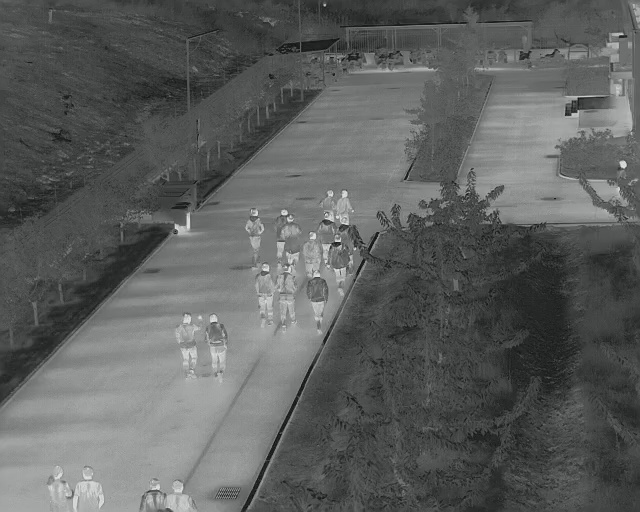person: (175, 310, 204, 380), (207, 311, 232, 383), (308, 272, 331, 334), (75, 466, 104, 512), (244, 206, 267, 264), (280, 262, 300, 328), (257, 261, 277, 323), (46, 465, 70, 511), (330, 236, 348, 294), (280, 209, 300, 261), (139, 477, 167, 512), (169, 480, 199, 512), (304, 231, 322, 274), (337, 187, 352, 223), (321, 188, 335, 213)
